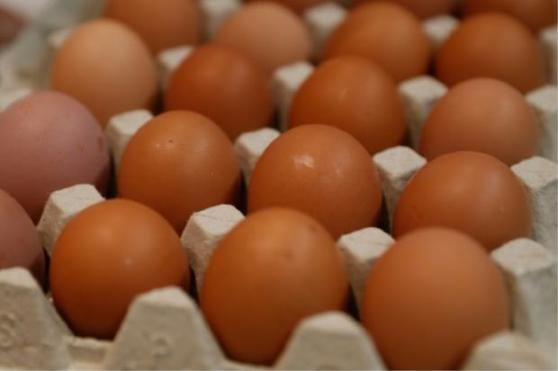egg: (192, 209, 356, 354), (357, 221, 515, 370), (48, 197, 190, 346)
